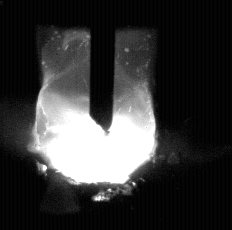arame: (91, 0, 115, 136)
poca: (33, 0, 157, 230)
